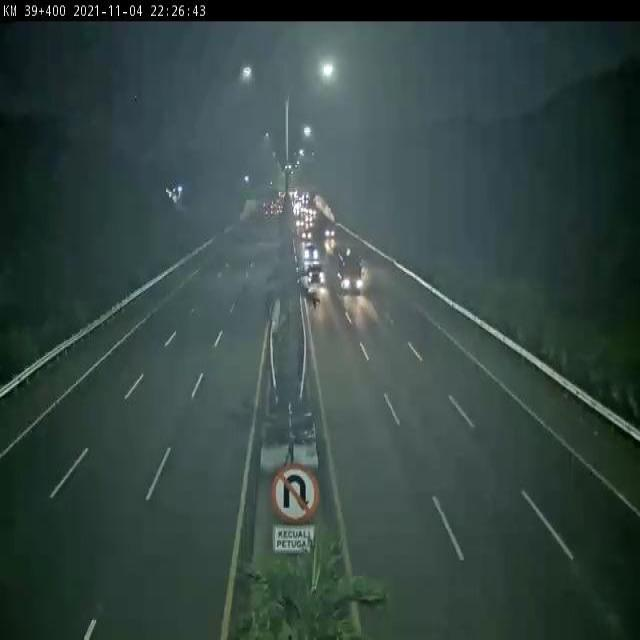car: (332, 242, 360, 282)
